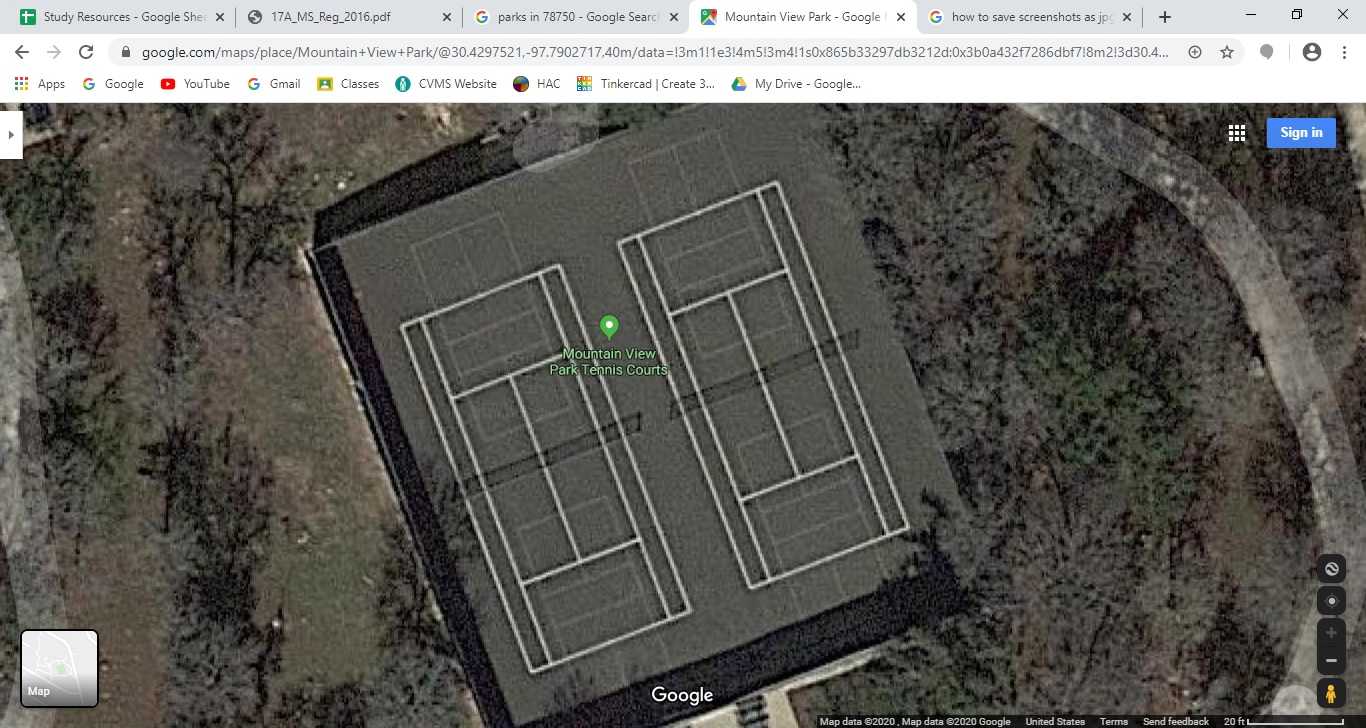tennis: (622, 217, 921, 594), (371, 262, 578, 660)
